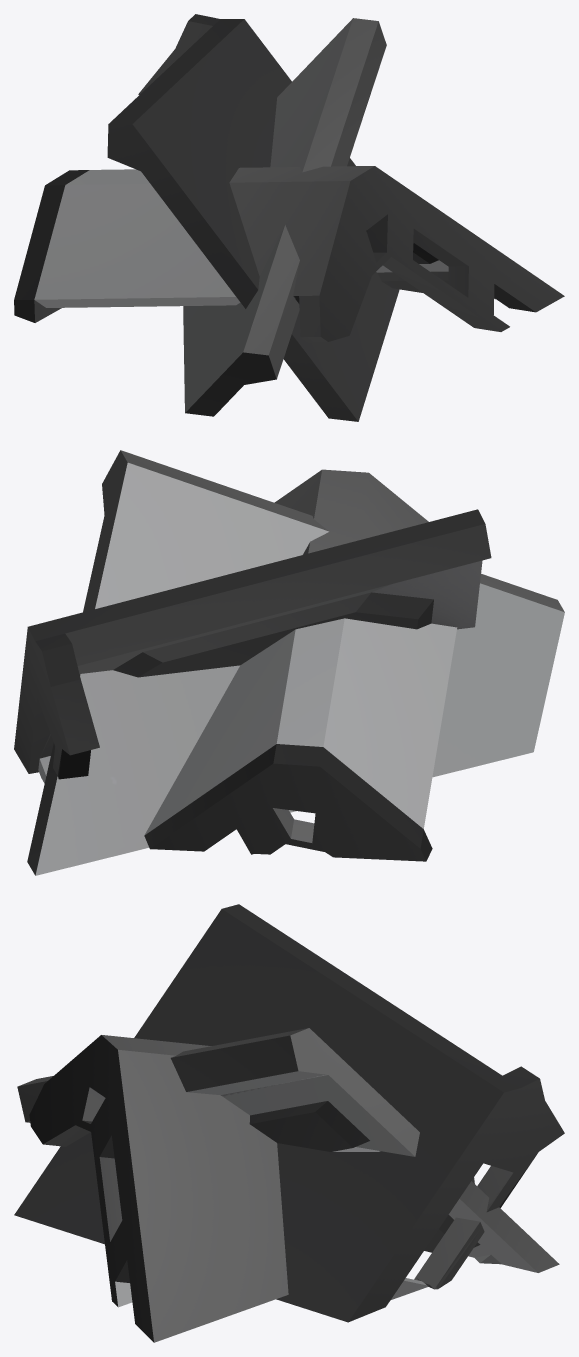
The model's file is Debris.fbx.
3 views of the same model, one above another, from view 1: azimuth 30°, elevation 25°; view 2: azimuth 150°, elevation 25°; view 3: azimuth 270°, elevation 25° (orthographic). The views are drawn at different scales.
Parts seen in each view (by area): view 1: Debris; view 2: Debris; view 3: Debris.
Part boxes in pixels (box(x1,y1,x2,y2)): Debris: box(14, 14, 564, 421); Debris: box(14, 450, 564, 875); Debris: box(14, 904, 564, 1342).
Size of the model in its own units: 249 by 144 by 276.
